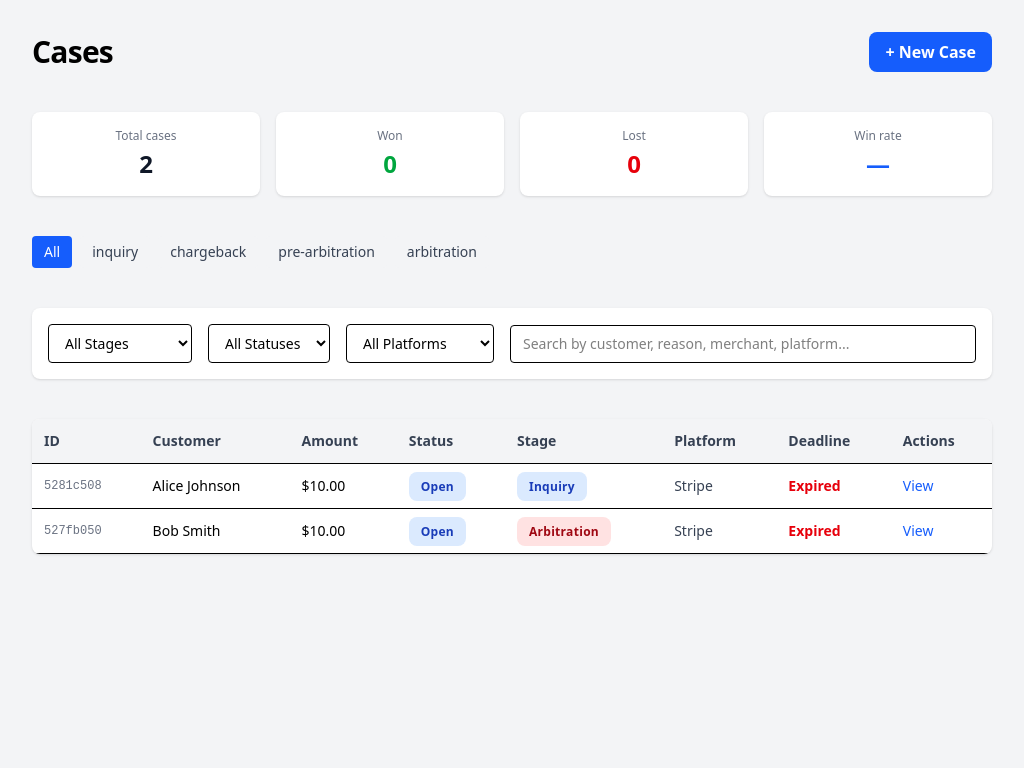
Dashboard › filters by stage via the quick filter buttons
Click the button "arbitration": click(442, 252) [395,236,489,268]
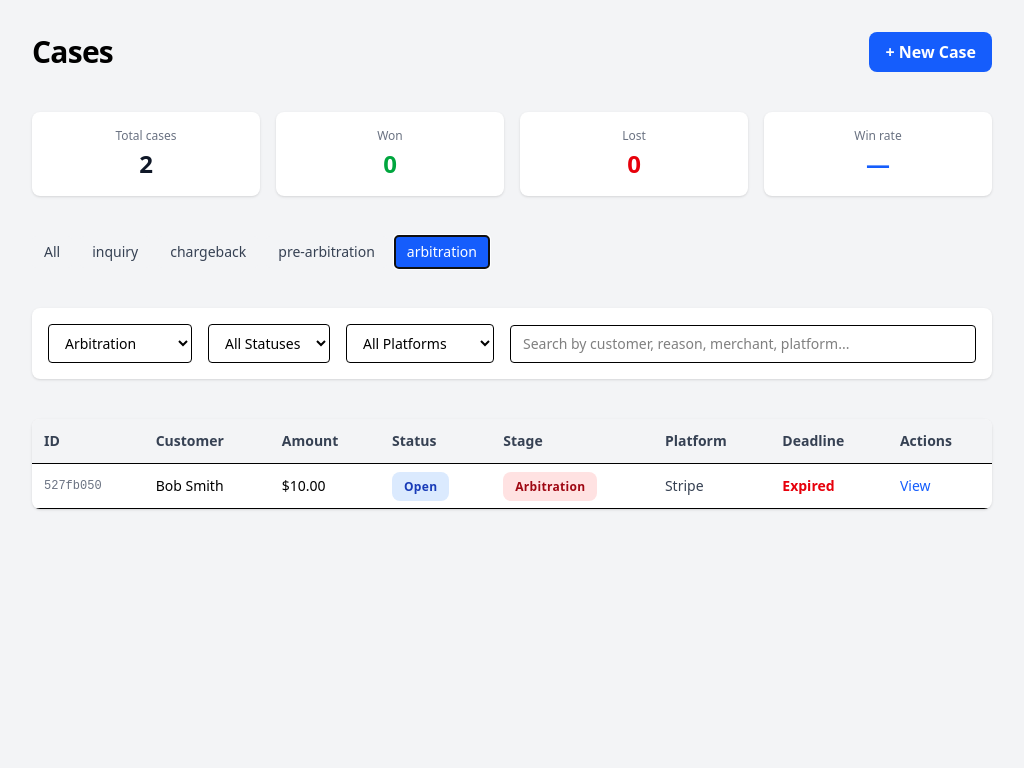
Expected: the text "Bob Smith" is shown, [144,464,270,508]
Expected: the text "Alice Johnson" is gone
